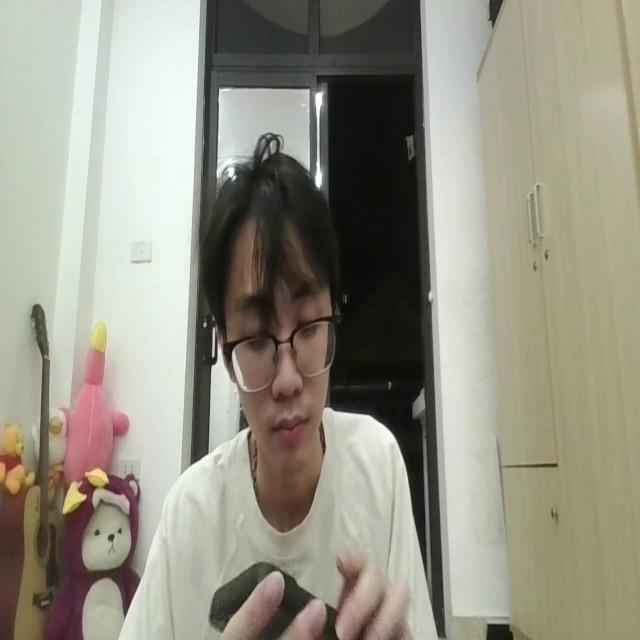phone: (210, 560, 340, 640)
student: (127, 133, 429, 640)
